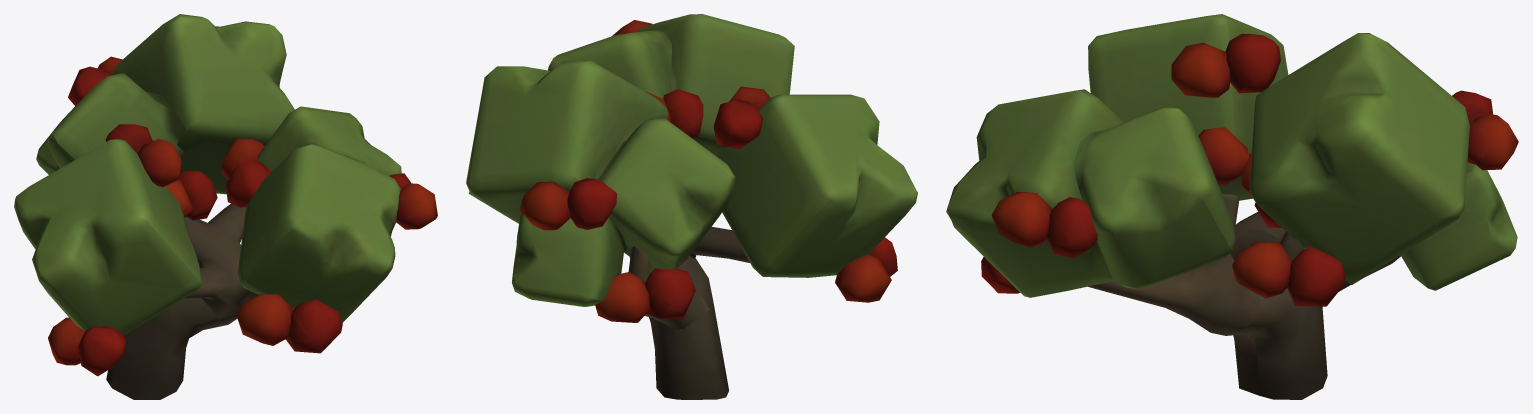
File: SM_Shrub_02.glb
The picture shows the model from 3 angles, left to right: view 1: azimuth 30°, elevation 25°; view 2: azimuth 150°, elevation 25°; view 3: azimuth 270°, elevation 25°; orthographic projection. The views are drawn at different scales.
Visible parts, largest first — view 1: SM_Shrub_02; view 2: SM_Shrub_02; view 3: SM_Shrub_02.
Part boxes in pixels (<box>): SM_Shrub_02: <box>14,14,437,399</box>; SM_Shrub_02: <box>466,14,917,399</box>; SM_Shrub_02: <box>946,14,1518,399</box>.
Bounding box in the file's own units: 2.24 × 2.02 × 2.66.
1 material, 1 textured.
